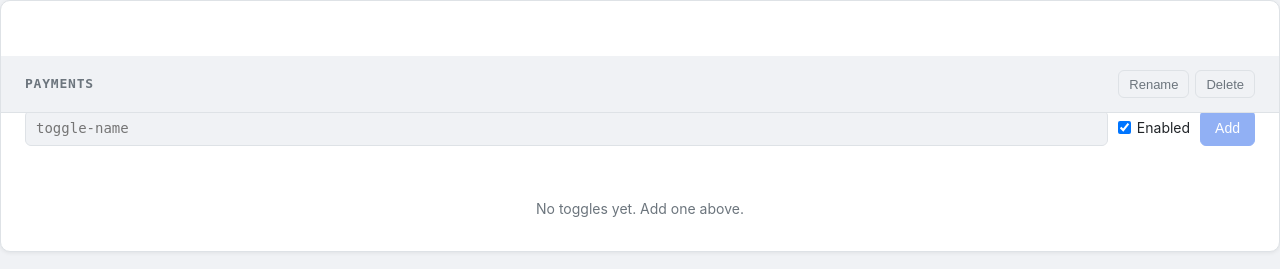
Test: GroupSection › disables action buttons while an operation is in flight
Step 1. Click the button "Delete" → (1225, 84), box [1195,70,1255,98]
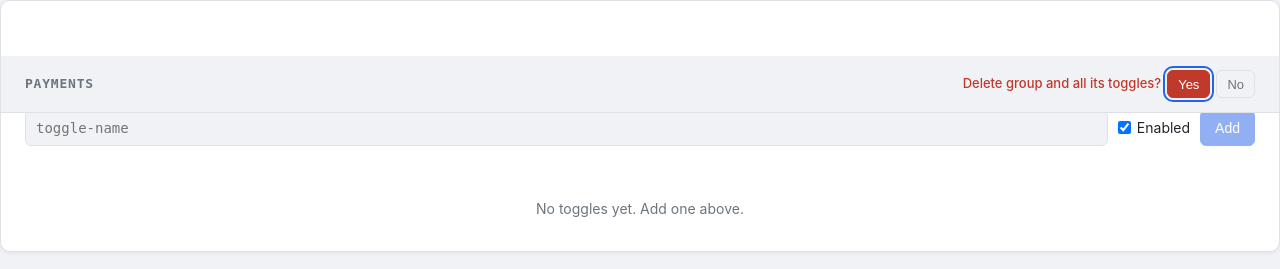
Step 2. Click the button "Yes" → (1189, 84), box [1167,70,1210,98]
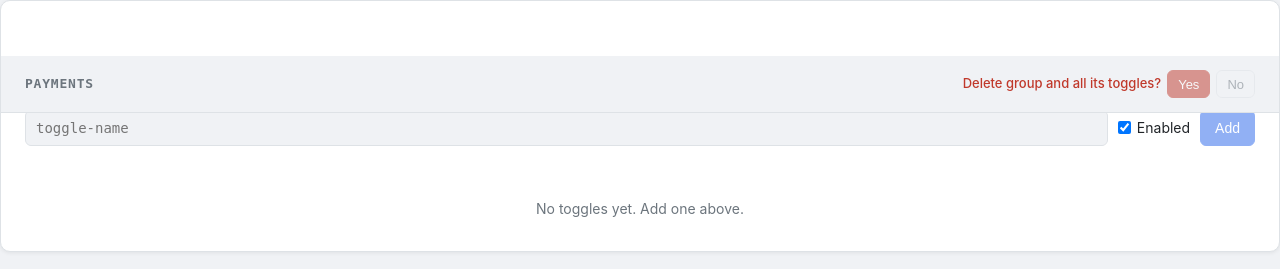
Expected: the button "Yes" is disabled, [1167,70,1210,98]
Expected: the button "No" is disabled, [1216,70,1255,98]
